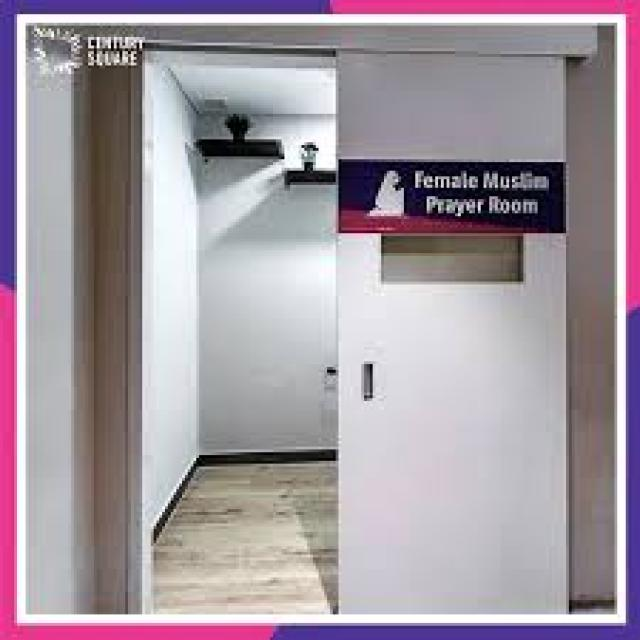surau_icon: (361, 164, 411, 226)
